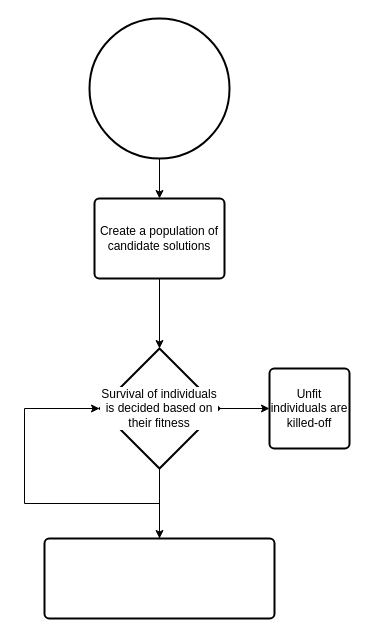
Some shapes in this 368 by 636 pixel diagram are drawn without their labels. Each missing label, with the centre of its shape:
An optimization problem: (159,88)
Fit individuals are the parents of the next generation: (159,578)
